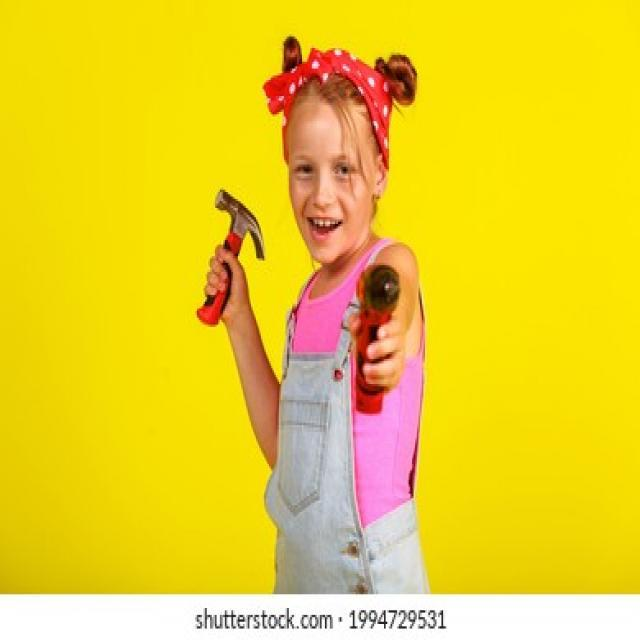hammer: (186, 180, 272, 338)
